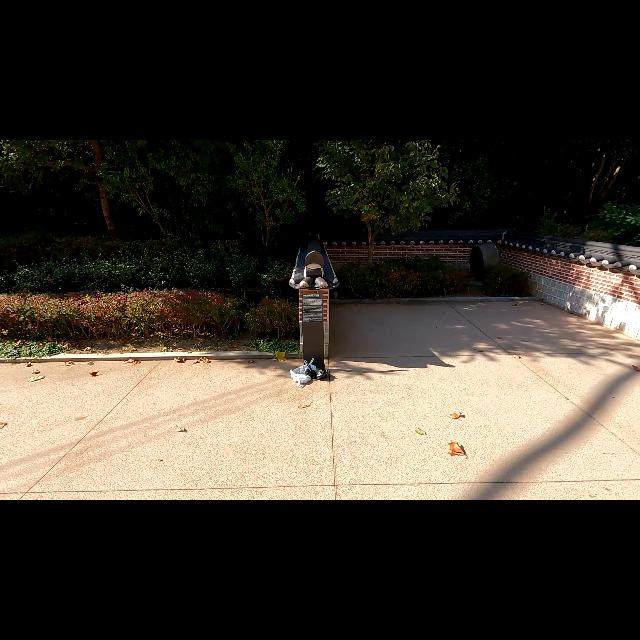trash: (290, 358, 316, 377), (292, 373, 312, 385), (306, 364, 316, 382), (315, 368, 329, 380)
